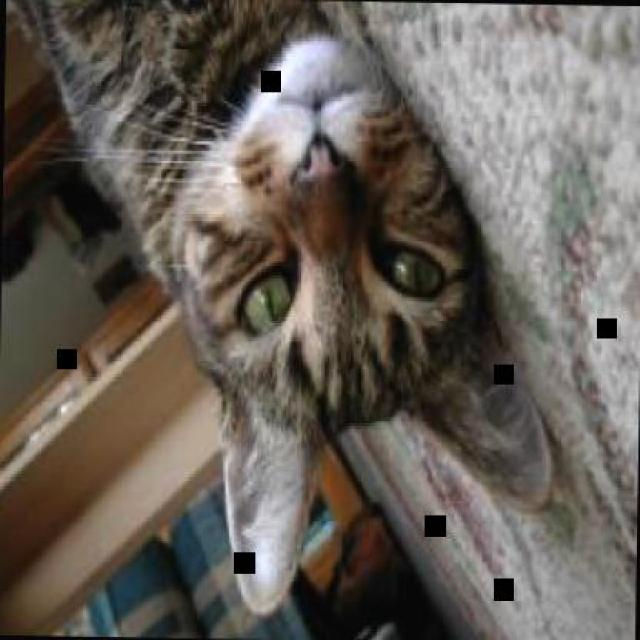cat: (0, 0, 568, 623)
